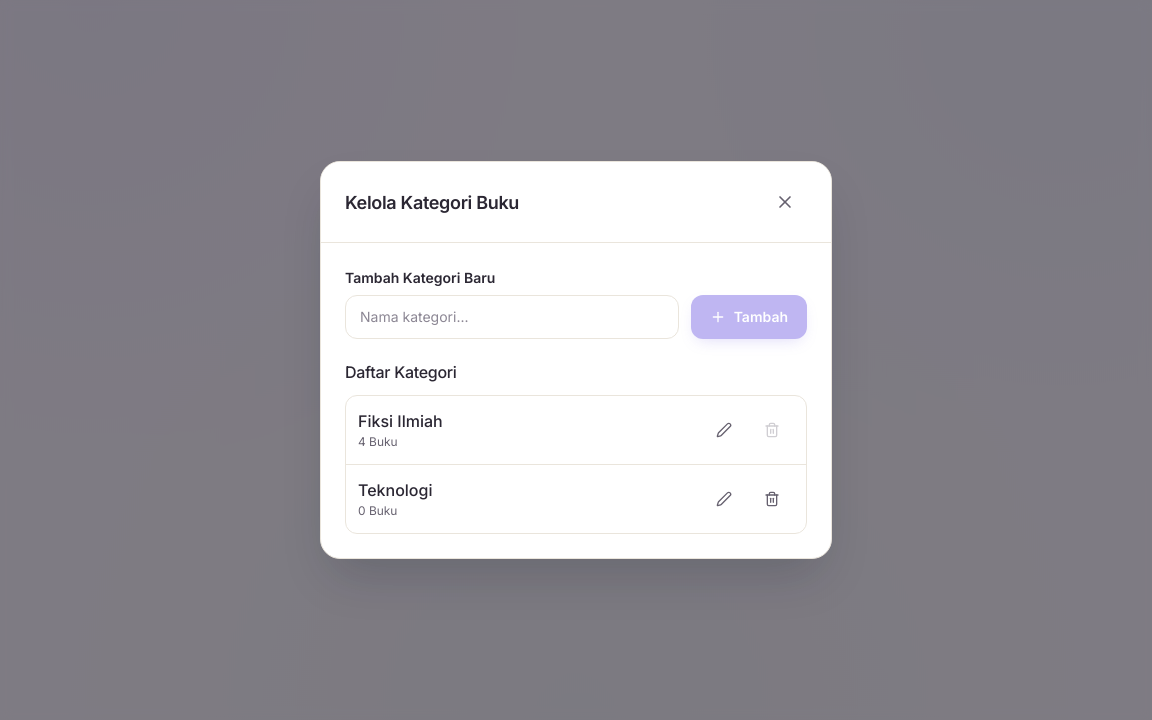
Scenario: CategoryFormModal Component › should handle adding a new category successfully
Check: the text "Fiksi Ilmiah" is shown, box [358,408,443,433]
Type "Sains Alam" into the field with placeholder "Nama kategori..." at (512, 317), box [345,295,679,339]
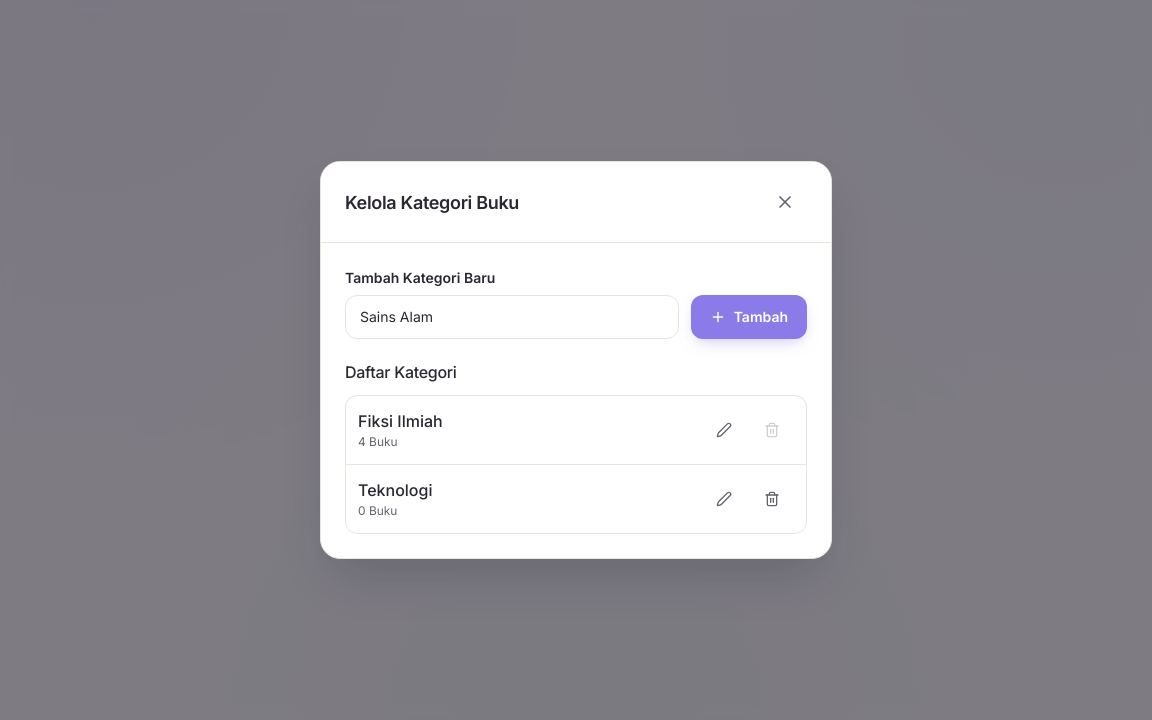
Click the button "Tambah" at (749, 317), box [691,295,807,339]
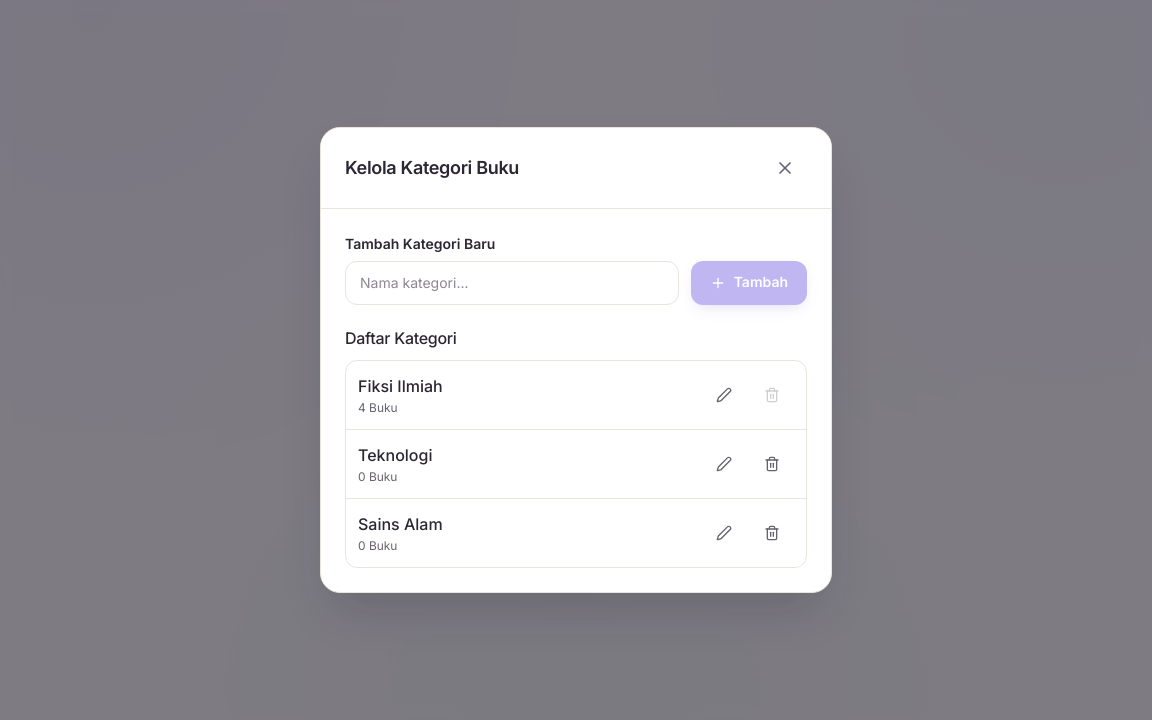
Check: the text "Sains Alam" is shown, box [358,512,443,537]
